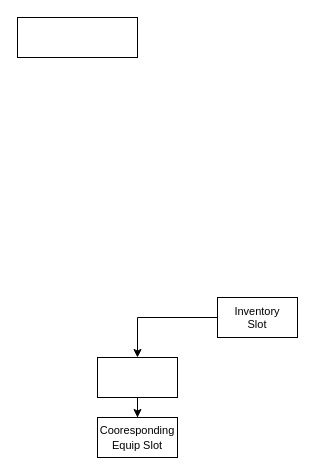
The diagram is 315 pixels wide and 475 high, and some of its shapes have lost their labels. Here are the shapes that lost their labels. From the top down, the centre of each, then its label:
At (x=77, y=37): "INVENTORY".
At (x=137, y=377): "Equipped Status".
